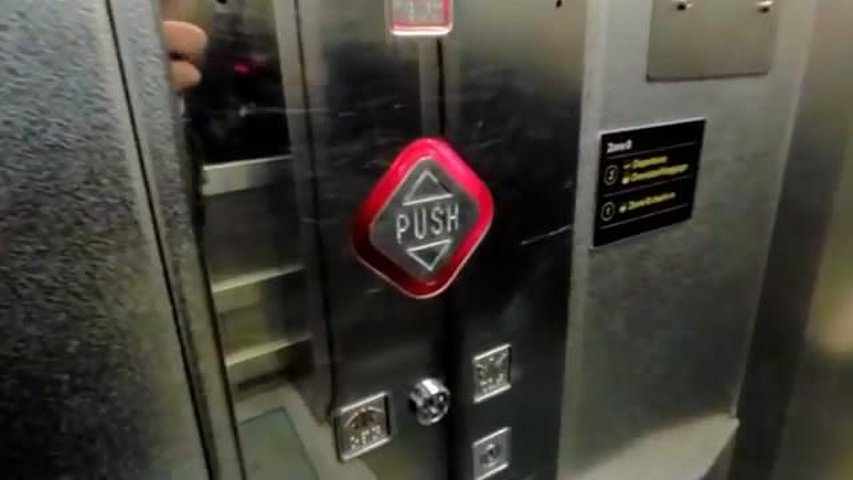close: (465, 337, 518, 410)
keyhole: (465, 423, 518, 480), (406, 376, 453, 428)
open: (325, 388, 396, 469)
text_push: (343, 130, 497, 303)
